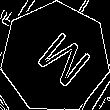M_SW: (22, 24, 88, 92)
